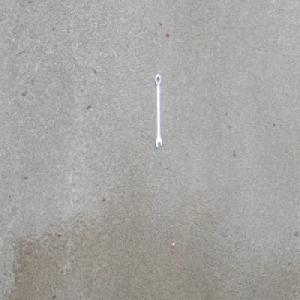Wrench: (154, 73, 163, 148)
